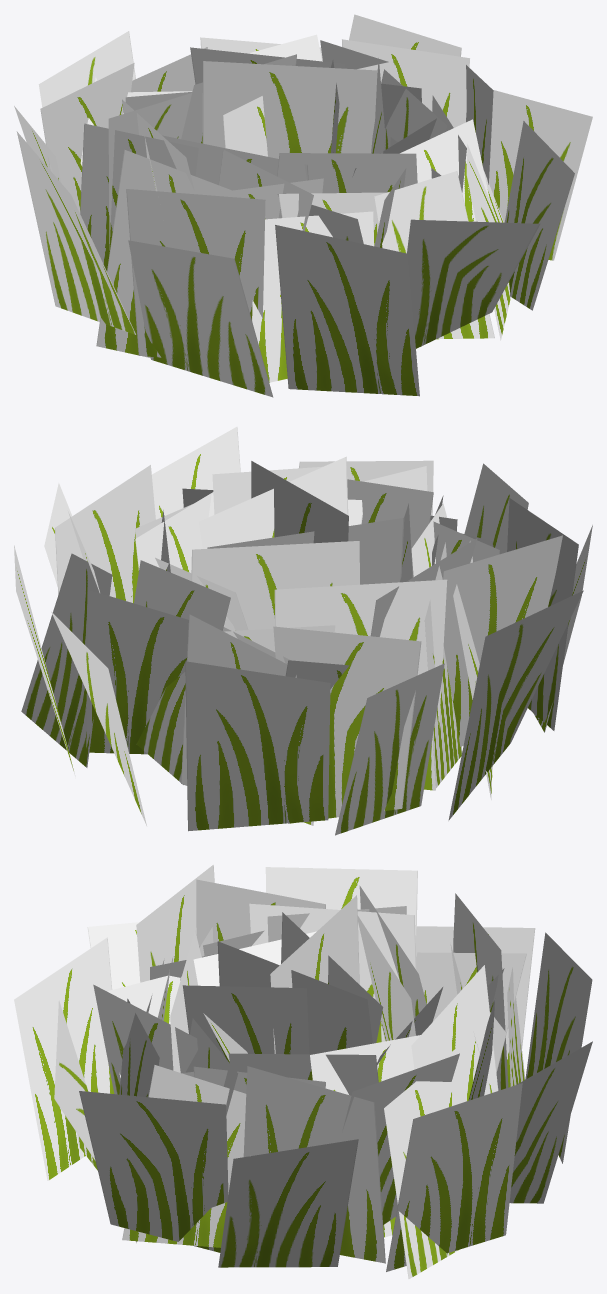
File: FSS_grass_001.FBX
3 renders of one model, top to bottom at view 1: azimuth 30°, elevation 25°; view 2: azimuth 150°, elevation 25°; view 3: azimuth 270°, elevation 25°, orthographic. The views are drawn at different scales.
Parts seen in each view (by area): view 1: FSS_grass_001; view 2: FSS_grass_001; view 3: FSS_grass_001.
Boxes of the visible parts, box(x1,y1,x2,y2) form: FSS_grass_001: box(14, 14, 592, 397); FSS_grass_001: box(14, 427, 592, 835); FSS_grass_001: box(14, 865, 592, 1278).
Bounding box in the file's own units: 121 × 57.15 × 116.
